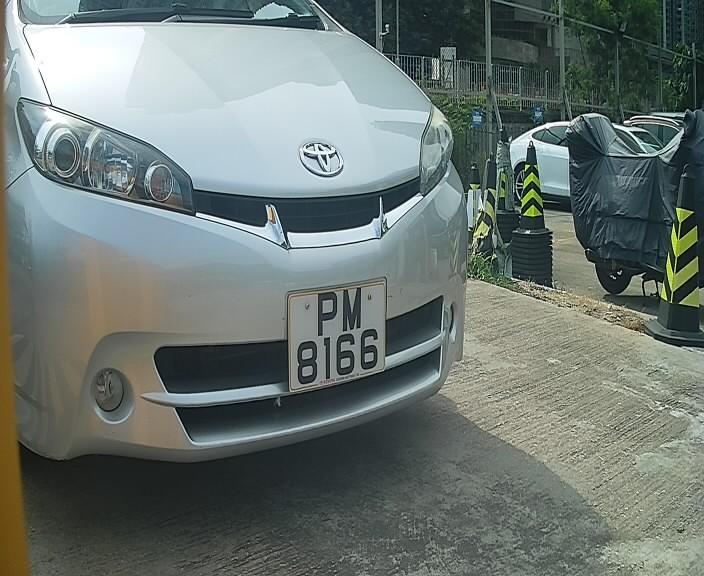License Plate: (283, 268, 400, 404)
